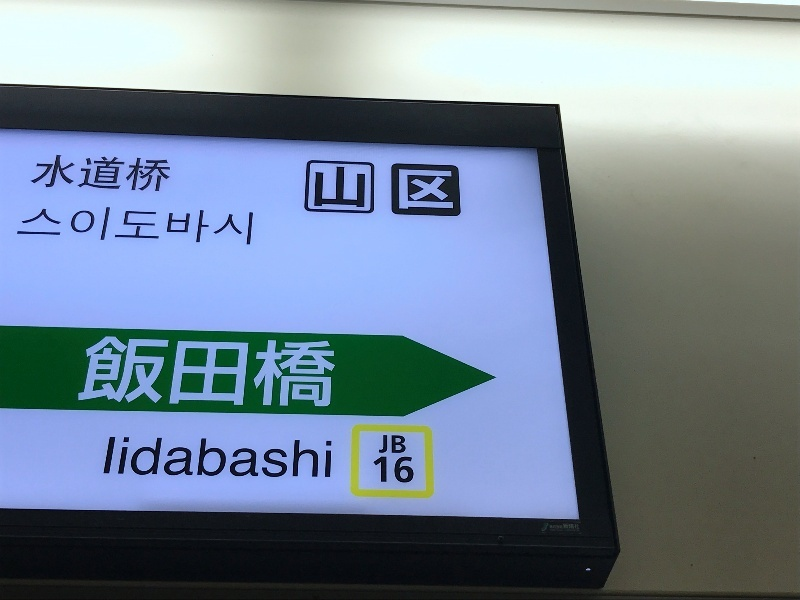text: (321, 337, 337, 408), (97, 337, 112, 408), (113, 337, 128, 408), (129, 337, 144, 408), (145, 337, 160, 408), (161, 337, 176, 408), (177, 337, 192, 408), (193, 337, 208, 408), (209, 337, 224, 408), (225, 337, 240, 408), (241, 337, 256, 408), (257, 337, 272, 408), (273, 337, 288, 408), (289, 337, 304, 408), (305, 337, 320, 408), (321, 166, 336, 211), (337, 166, 352, 211), (353, 166, 368, 211), (369, 166, 384, 211), (385, 166, 400, 211), (401, 166, 416, 211), (417, 166, 432, 211), (433, 166, 448, 211), (113, 437, 128, 479), (129, 437, 144, 479), (145, 437, 160, 479), (161, 437, 176, 479), (177, 437, 192, 479), (193, 437, 208, 479), (209, 437, 224, 479), (225, 437, 240, 479), (241, 437, 256, 479), (257, 437, 272, 479), (273, 437, 288, 479), (289, 437, 304, 479), (305, 437, 320, 479), (33, 205, 48, 247), (49, 205, 64, 247), (65, 205, 80, 247), (81, 205, 96, 247), (97, 205, 112, 247), (113, 205, 128, 247), (129, 205, 144, 247), (145, 205, 160, 247), (161, 205, 176, 247), (177, 205, 192, 247), (193, 205, 208, 247), (209, 205, 224, 247), (225, 205, 240, 247), (49, 153, 64, 192), (65, 153, 80, 192), (81, 153, 96, 192), (97, 153, 112, 192), (113, 153, 128, 192), (129, 153, 144, 192), (145, 153, 160, 192), (241, 205, 254, 247), (161, 153, 172, 192), (90, 337, 96, 408), (321, 437, 331, 479), (385, 458, 400, 484), (39, 153, 48, 192), (401, 458, 414, 484), (385, 436, 400, 454), (374, 458, 384, 484), (316, 166, 320, 211), (449, 166, 453, 211), (28, 205, 32, 247), (379, 436, 384, 454), (401, 436, 406, 454), (110, 437, 112, 479)
